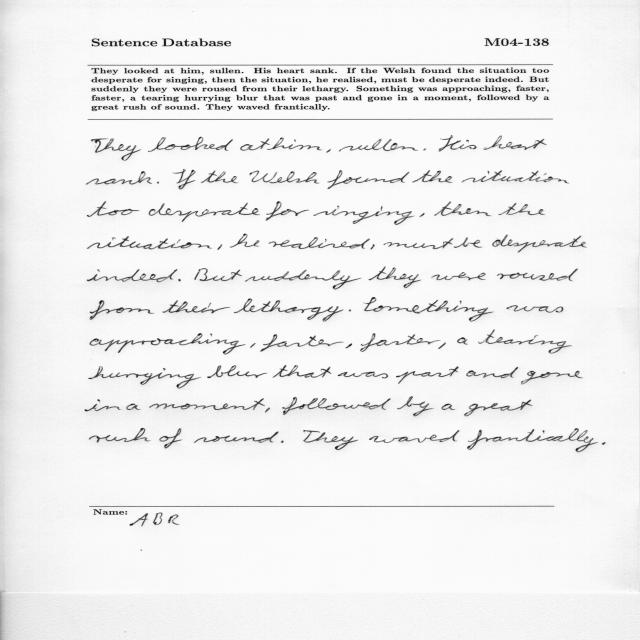word: (90, 333, 246, 355), (364, 297, 494, 322), (467, 428, 598, 452), (234, 299, 344, 322), (89, 367, 201, 389), (245, 270, 361, 290), (478, 330, 572, 354), (149, 203, 260, 222), (282, 397, 391, 415), (313, 206, 415, 225), (492, 235, 587, 253), (88, 236, 212, 249), (328, 170, 410, 189), (360, 333, 441, 352), (260, 334, 344, 352), (462, 171, 570, 184), (149, 398, 265, 410), (90, 300, 154, 320), (148, 137, 233, 152), (269, 237, 370, 249), (87, 269, 178, 282), (464, 400, 533, 417), (369, 430, 459, 443), (92, 138, 142, 161), (396, 366, 459, 384), (368, 267, 421, 288), (303, 430, 358, 450), (240, 138, 322, 151), (339, 139, 418, 152), (497, 269, 578, 281), (483, 135, 547, 150), (89, 428, 151, 443), (86, 171, 152, 185), (194, 432, 278, 443), (250, 171, 320, 184), (163, 301, 231, 314), (265, 201, 309, 221), (88, 201, 140, 217), (521, 371, 583, 384), (434, 202, 491, 216), (208, 365, 268, 378), (384, 238, 454, 249), (273, 365, 332, 378), (397, 397, 434, 417), (195, 268, 243, 281), (439, 136, 477, 152), (466, 367, 518, 378), (498, 203, 545, 215), (412, 170, 453, 183), (431, 272, 486, 281), (159, 429, 182, 449), (201, 171, 239, 183), (507, 305, 564, 313), (173, 170, 195, 190), (85, 400, 121, 412), (230, 234, 259, 248), (338, 372, 388, 379), (454, 237, 482, 248), (126, 404, 140, 410), (442, 404, 455, 410), (457, 338, 468, 345), (438, 342, 446, 349), (218, 244, 223, 250), (250, 343, 256, 348), (346, 344, 352, 349), (370, 245, 375, 250), (265, 408, 270, 413), (326, 149, 331, 153), (420, 213, 425, 217), (602, 442, 606, 445), (423, 148, 426, 151), (178, 279, 181, 281), (281, 440, 283, 443), (157, 182, 159, 184), (349, 310, 351, 312)
